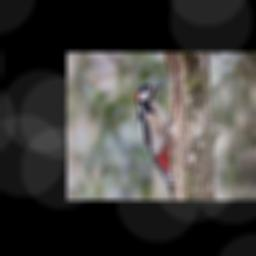Woodpecker: (136, 81, 174, 200)
